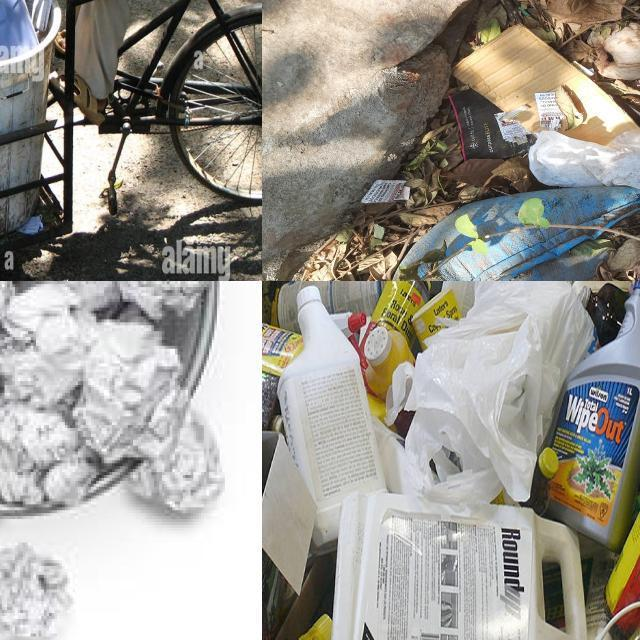Background: (262, 0, 474, 281)
Garbage: (262, 281, 640, 640), (297, 0, 640, 281)
Glass_bottle: (372, 281, 431, 347), (574, 281, 630, 346)
Paper: (0, 281, 205, 505)
Plastic_Bag: (405, 281, 591, 505), (402, 186, 640, 281), (528, 131, 640, 189)
Plastic_Container: (332, 493, 586, 640), (279, 285, 386, 547), (548, 281, 640, 548), (364, 326, 415, 399), (522, 448, 559, 516), (262, 323, 303, 376), (330, 311, 367, 338)
Plastic_wraper: (496, 112, 530, 143), (538, 112, 564, 128)
Tin_box: (277, 281, 387, 332)
top_view_waste: (0, 281, 214, 517)
